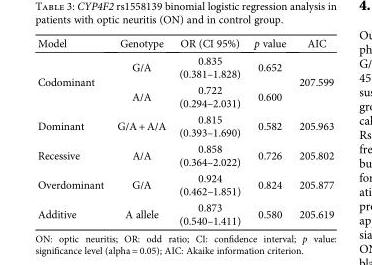table: (36, 36, 333, 226)
table column: (171, 36, 246, 226), (36, 36, 109, 226), (109, 36, 171, 226), (246, 36, 291, 226), (291, 36, 333, 226)
table column header: (36, 36, 333, 51)
table row: (36, 51, 333, 81), (36, 81, 333, 111), (36, 169, 333, 199), (36, 111, 333, 140), (36, 140, 333, 169), (36, 199, 333, 226), (36, 36, 333, 51)
table spanning cell: (36, 51, 109, 111), (291, 51, 333, 111)
